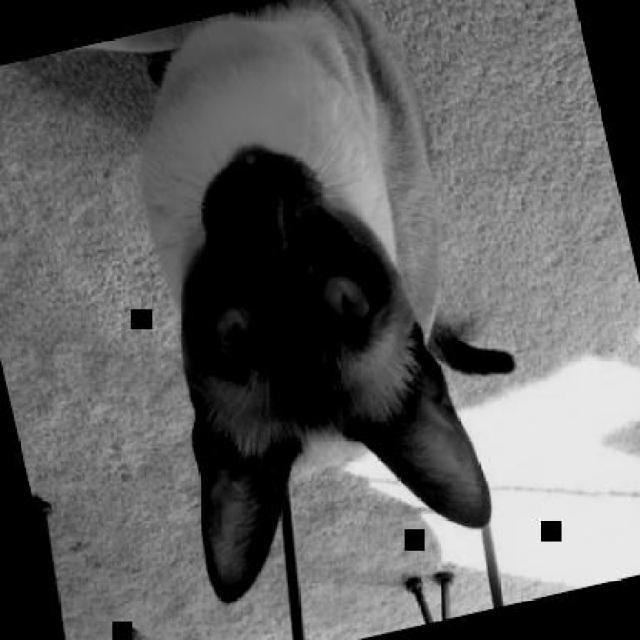cat: (84, 0, 558, 609)
